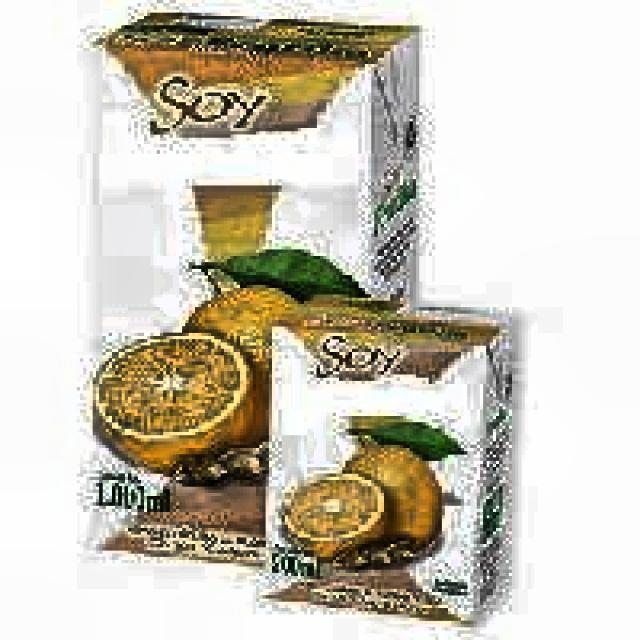cardboard: (259, 307, 512, 624)
